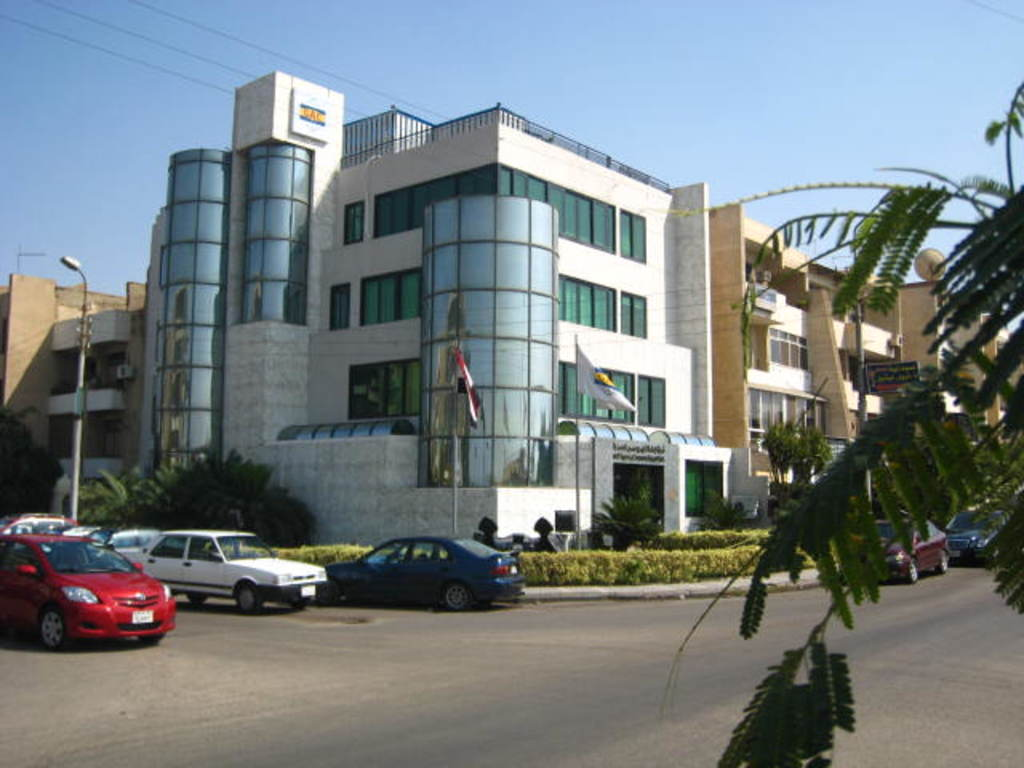Car: (6, 519, 174, 656), (126, 526, 318, 611), (331, 540, 528, 608), (854, 512, 950, 579), (948, 516, 1001, 552), (0, 510, 80, 531)
